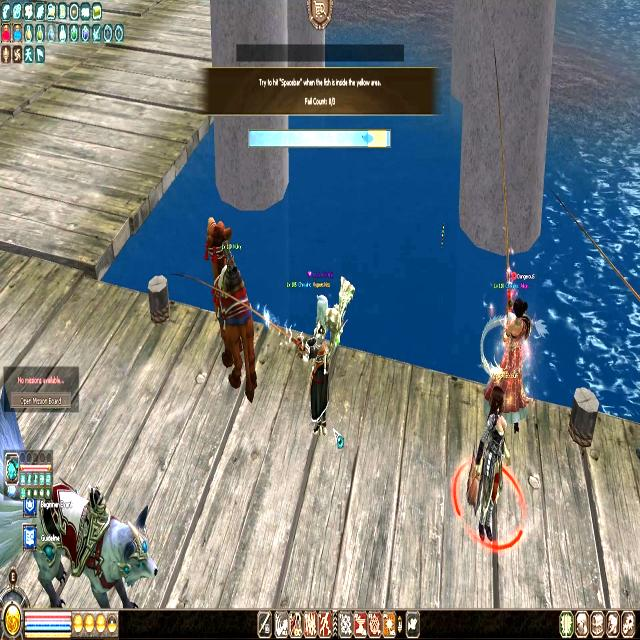fishes: (360, 131, 375, 147)
